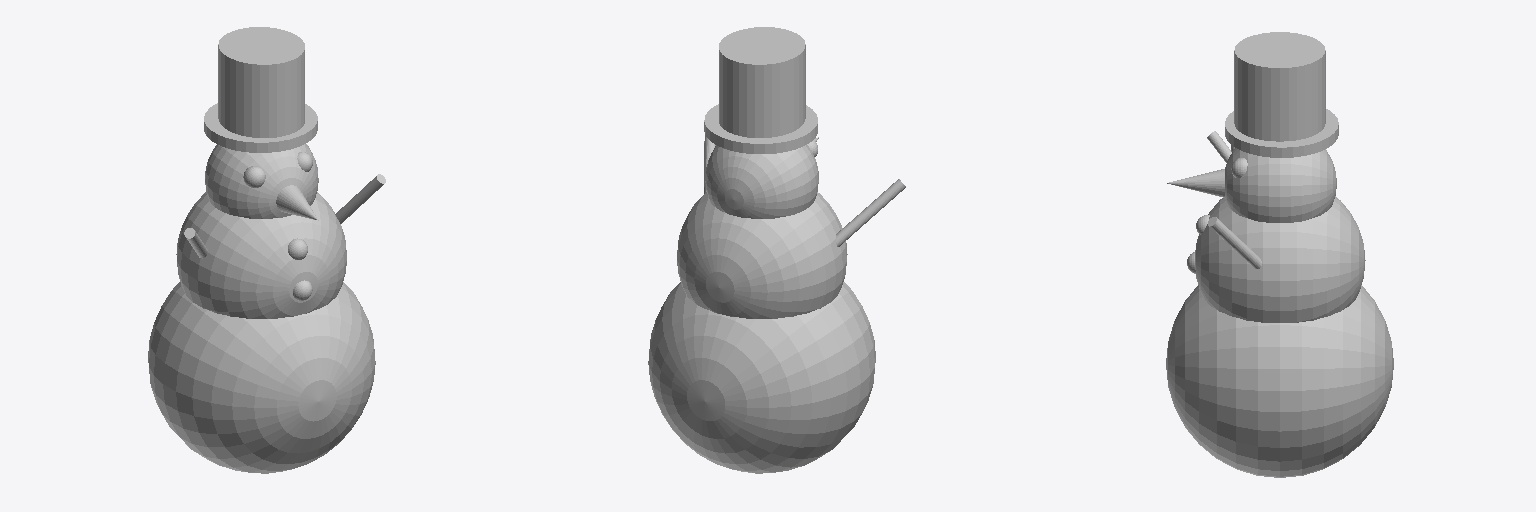
The model's file is frosty.obj.
3 views of the same model, side by side, from view 1: azimuth 30°, elevation 25°; view 2: azimuth 150°, elevation 25°; view 3: azimuth 270°, elevation 25° (orthographic).
Parts seen in each view (by area): view 1: Sphere.001, Sphere, Cylinder.001, Sphere.002, Cylinder, Cone, Cylinder.002; view 2: Sphere.001, Sphere, Cylinder.001, Sphere.002, Cylinder, Cylinder.003; view 3: Sphere.001, Sphere, Cylinder.001, Sphere.002, Cylinder, Cone, Cylinder.002.
Part boxes in pixels (bbox=[...]): Sphere.001: bbox=[148, 282, 375, 473]; Sphere: bbox=[176, 192, 346, 318]; Cylinder.001: bbox=[218, 27, 304, 137]; Sphere.002: bbox=[205, 144, 318, 218]; Cylinder: bbox=[204, 103, 317, 152]; Cone: bbox=[276, 185, 318, 220]; Cylinder.002: bbox=[335, 174, 385, 223]; Sphere.001: bbox=[648, 282, 875, 473]; Sphere: bbox=[677, 192, 847, 318]; Cylinder.001: bbox=[719, 27, 805, 137]; Sphere.002: bbox=[705, 145, 818, 218]; Cylinder: bbox=[704, 104, 817, 153]; Cylinder.003: bbox=[836, 179, 905, 246]; Sphere.001: bbox=[1166, 285, 1393, 477]; Sphere: bbox=[1195, 196, 1365, 322]; Cylinder.001: bbox=[1234, 32, 1325, 141]; Sphere.002: bbox=[1225, 148, 1336, 222]; Cylinder: bbox=[1225, 109, 1338, 157]; Cone: bbox=[1167, 169, 1224, 197]; Cylinder.002: bbox=[1208, 217, 1261, 268].
Size of the model in its own units: 0.8471 by 1.61 by 0.8.